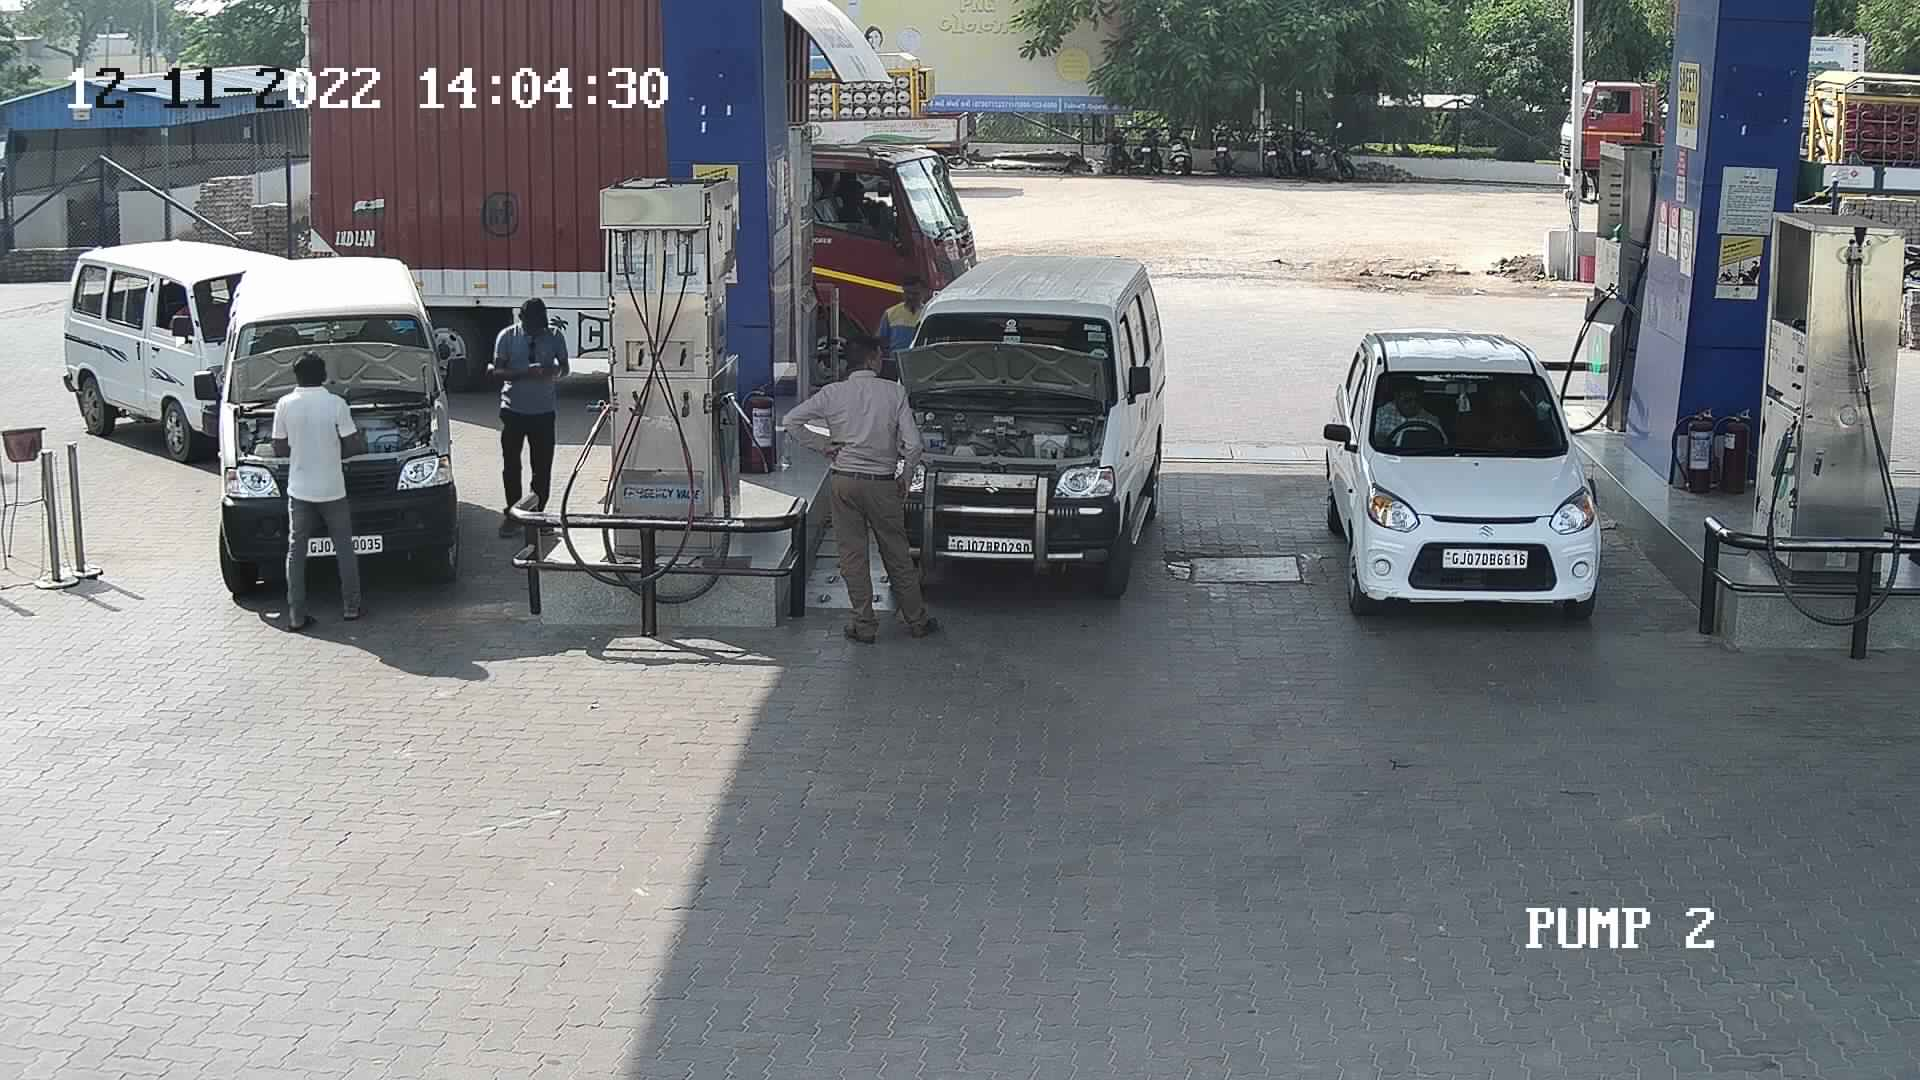Bike: (1089, 99, 1131, 179), (1316, 113, 1361, 182), (1254, 109, 1296, 181), (1130, 109, 1172, 181), (1203, 111, 1247, 177), (1160, 113, 1203, 175), (1290, 113, 1321, 185)
Car: (861, 253, 1185, 591), (179, 251, 465, 607), (1305, 320, 1619, 622), (49, 225, 368, 472)
HMV: (771, 1, 982, 389), (800, 41, 988, 196), (1545, 61, 1677, 210), (1787, 57, 1913, 206)
Others: (868, 264, 942, 386)
